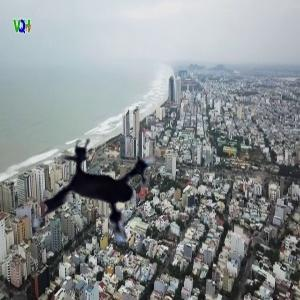drone: (19, 119, 186, 286)
